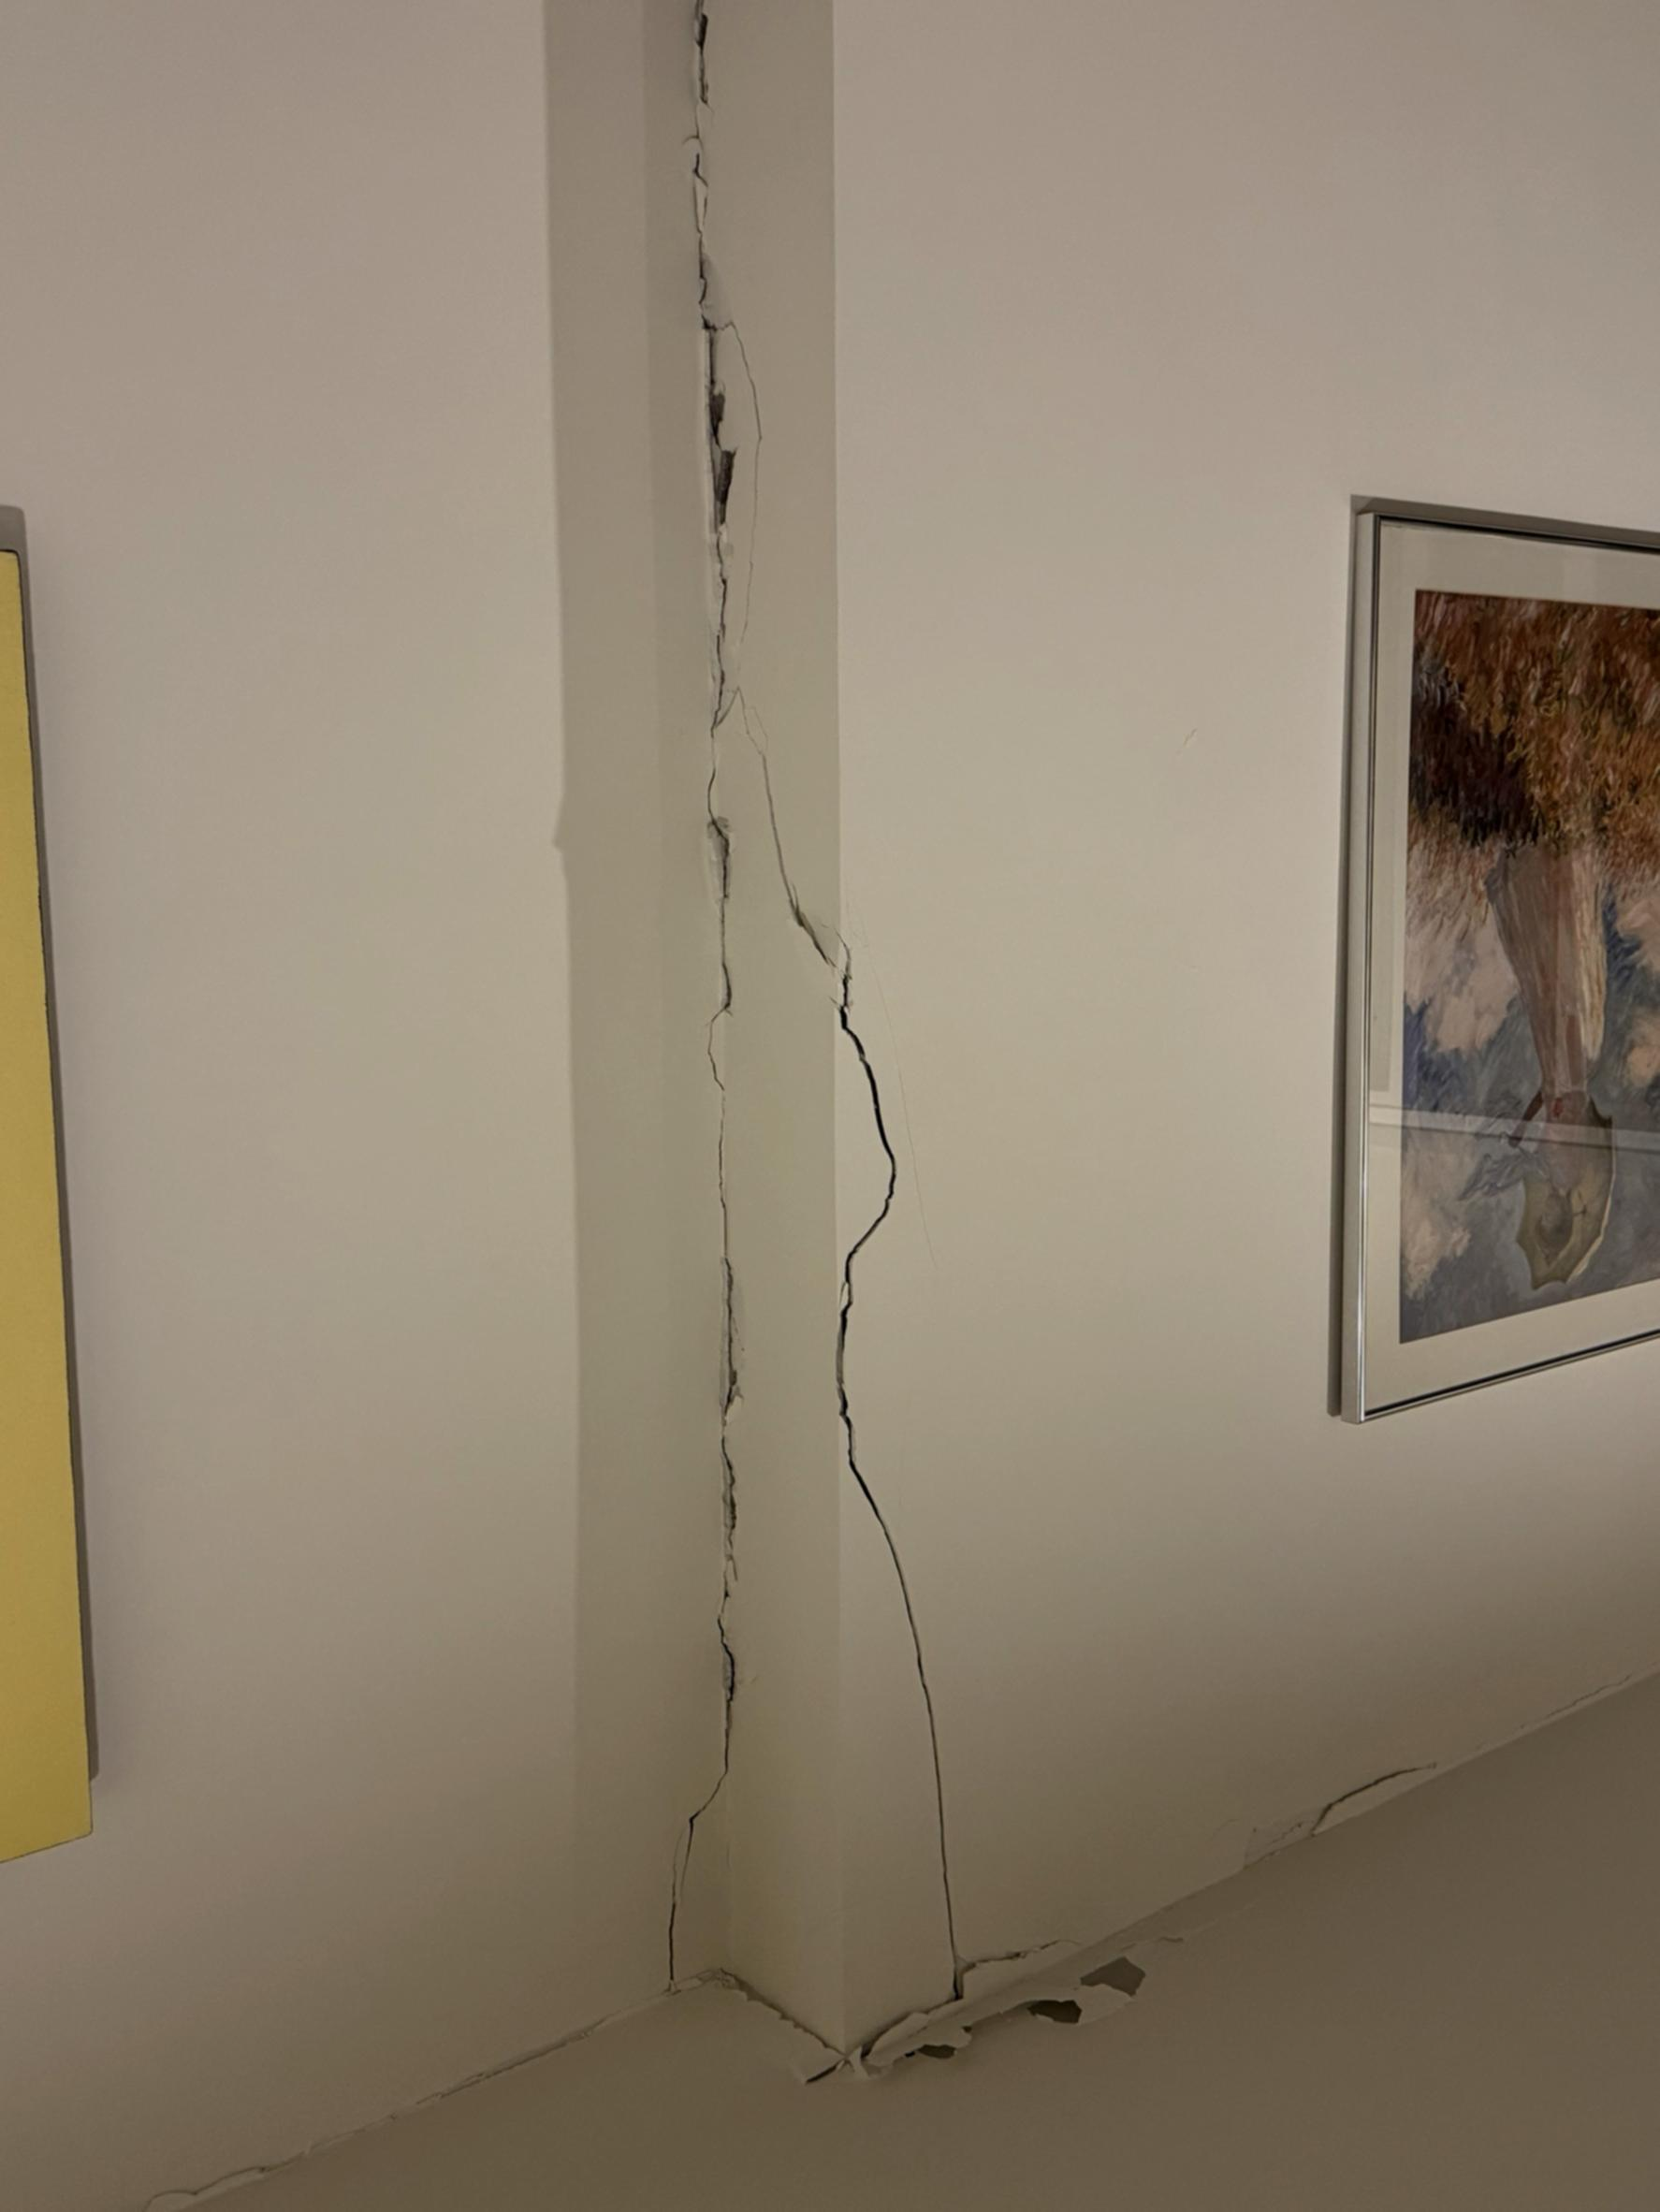High: (544, 10, 1250, 2148)
